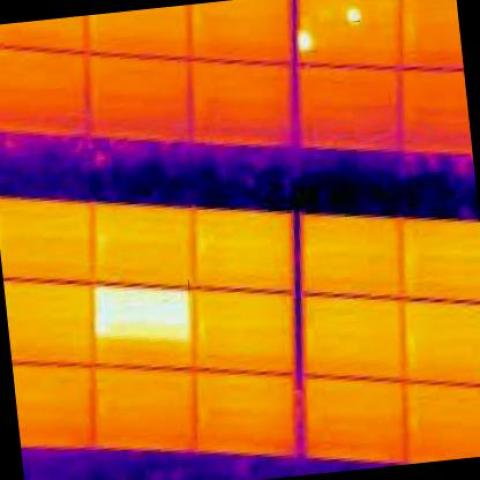fault: (95, 286, 188, 332), (296, 28, 315, 54), (347, 6, 364, 26)
